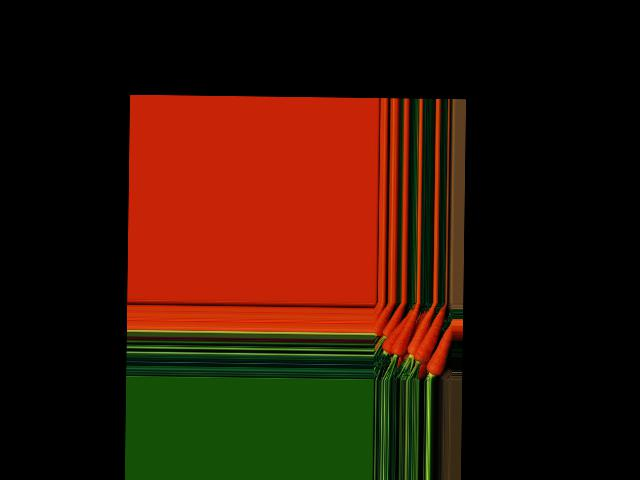carrot: (380, 303, 404, 341)
